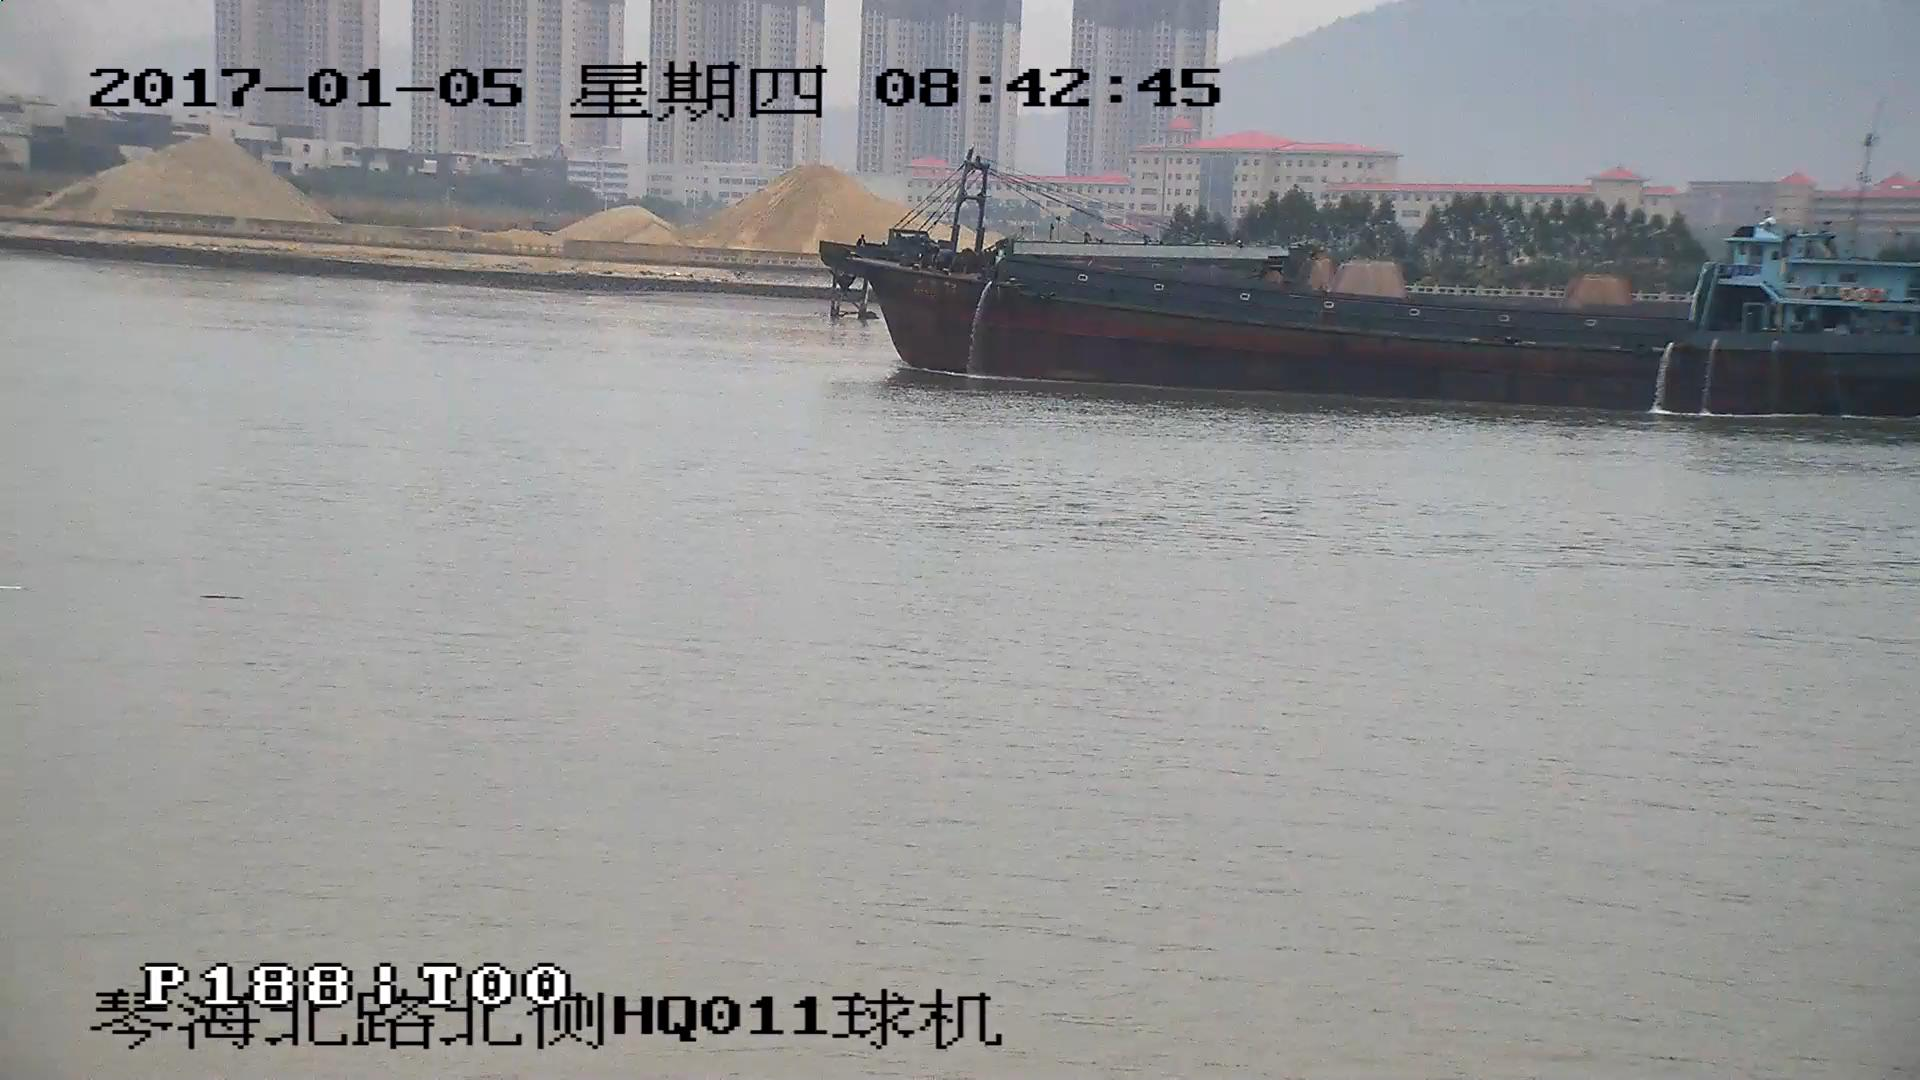bulk cargo carrier: (820, 157, 1920, 415)
